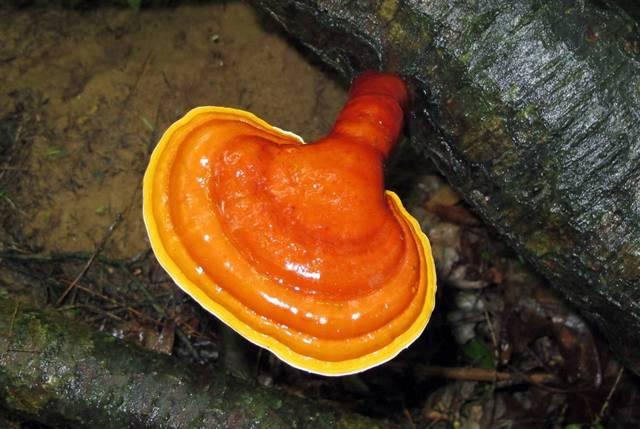poisonous_mushroom: (141, 69, 439, 377)
